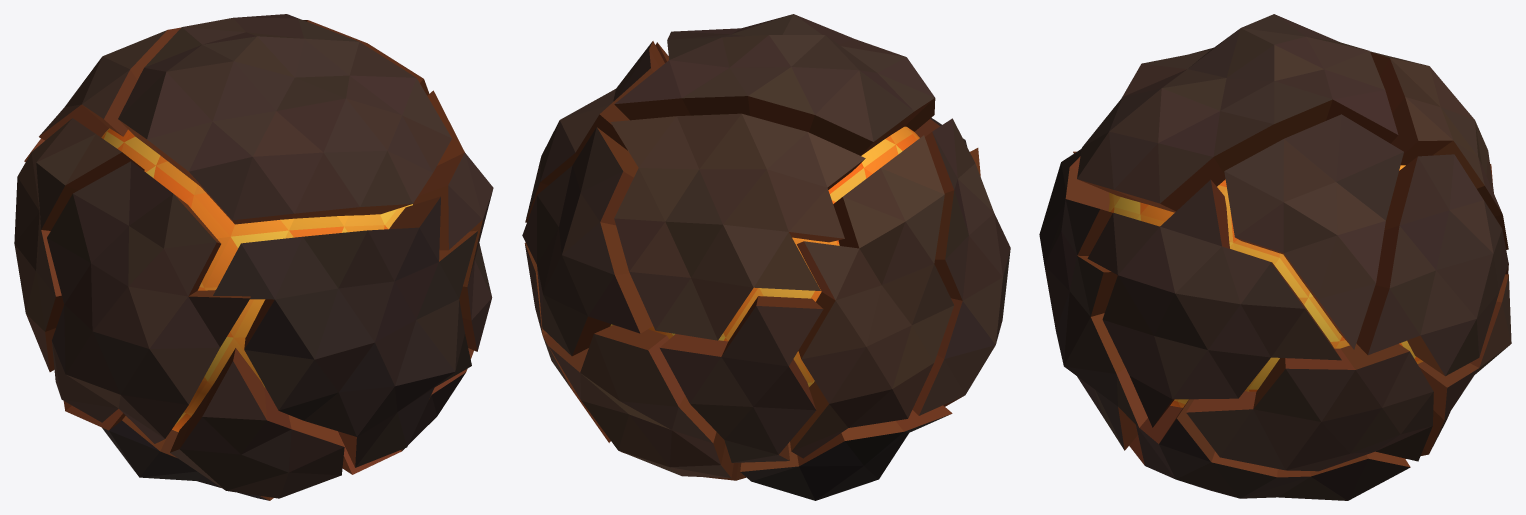
File: meteor.glb
3 views of the same model, side by side, from view 1: azimuth 30°, elevation 25°; view 2: azimuth 150°, elevation 25°; view 3: azimuth 270°, elevation 25° (orthographic).
Visible parts, largest first — view 1: Rock, Glow; view 2: Rock, Glow; view 3: Rock, Glow.
Part boxes in pixels (left/top/right/bottom): Rock: left=14, top=14, right=493, bottom=500; Glow: left=101, top=128, right=412, bottom=432; Rock: left=522, top=14, right=1010, bottom=500; Glow: left=610, top=126, right=919, bottom=386; Rock: left=1039, top=14, right=1511, bottom=500; Glow: left=1108, top=165, right=1423, bottom=407.
Size of the model in its own units: 1.84 by 1.84 by 1.81.
